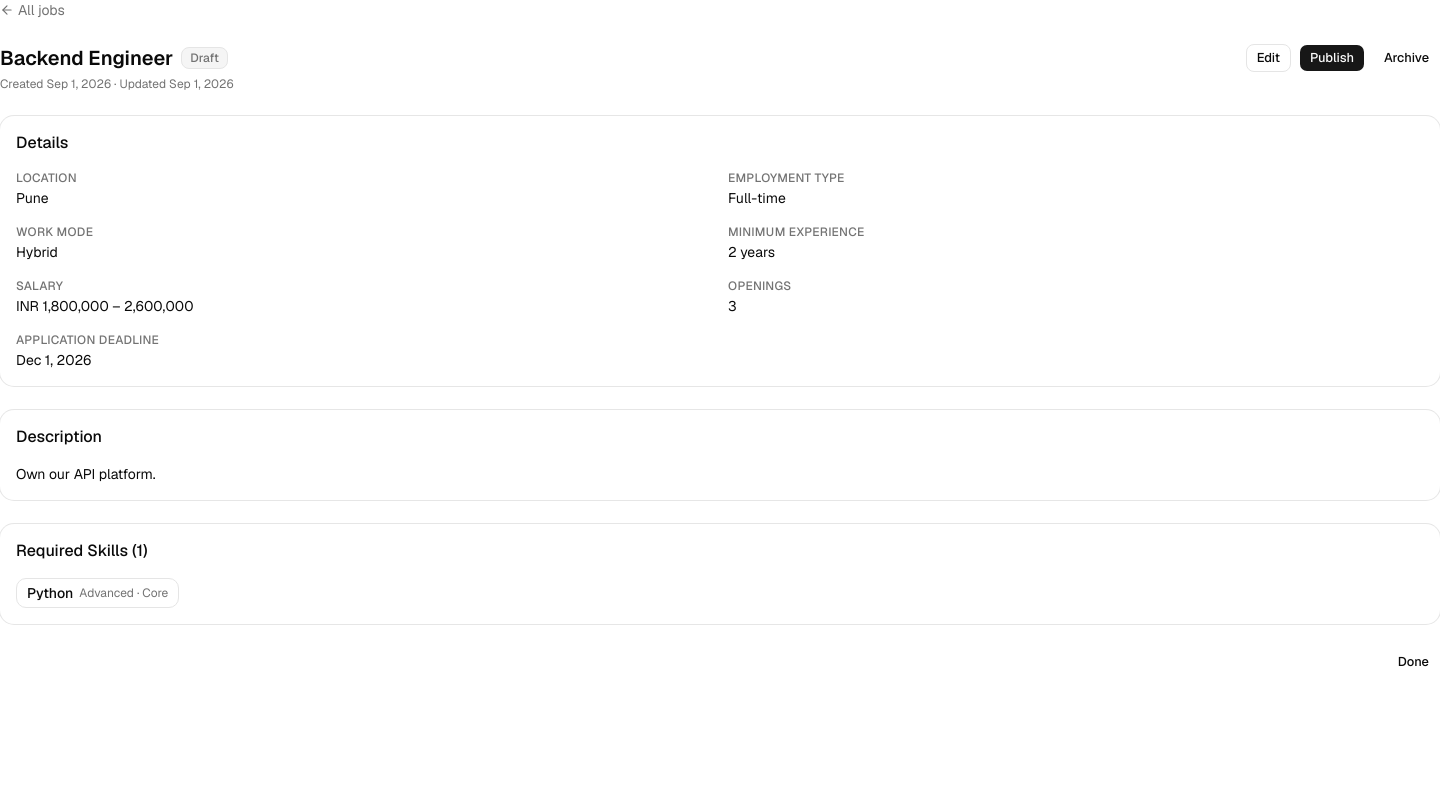
Test: JobDetailView › publishes via the confirmation dialog
Check: the heading "Backend Engineer" is shown, box [0,44,173,72]
Step 1. Click the button "Publish" → {"x": 1332, "y": 58}, box [1299,44,1365,72]
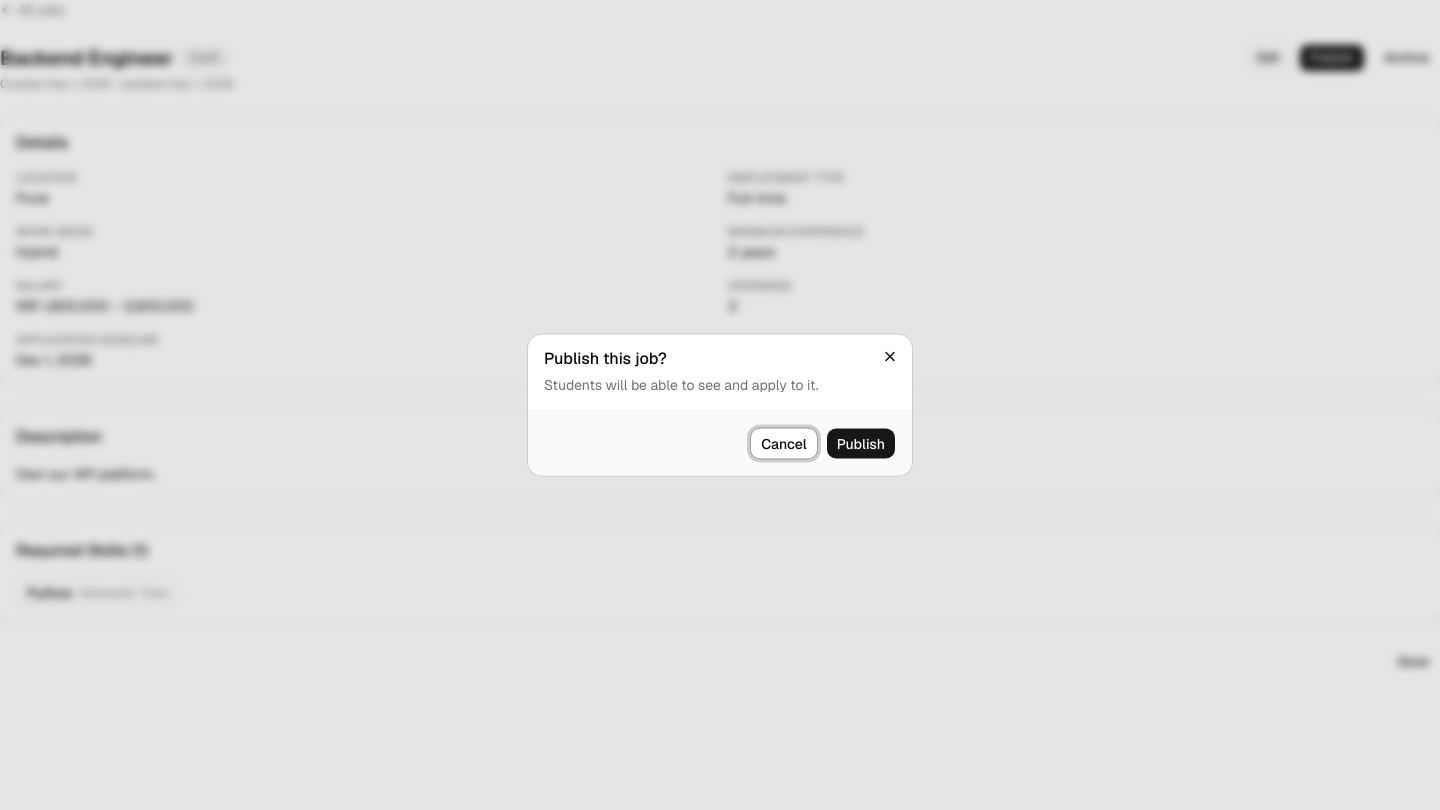
Step 2. Click the button "Publish" → {"x": 861, "y": 444}, box [826,428,896,460]
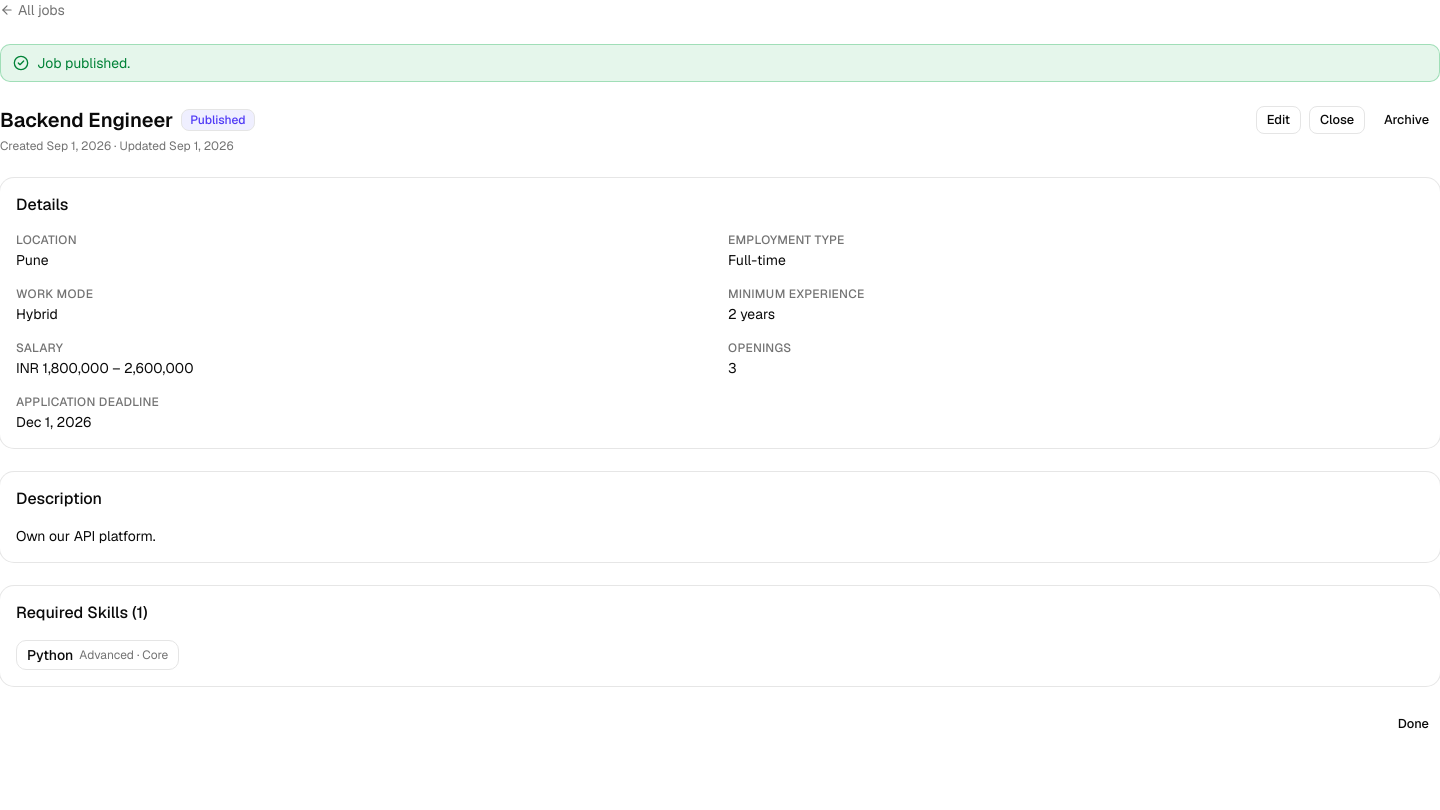
Check: the text "Job published." is shown, box [37,53,130,73]
Check: the text "Published" is shown, box [181,109,255,131]
